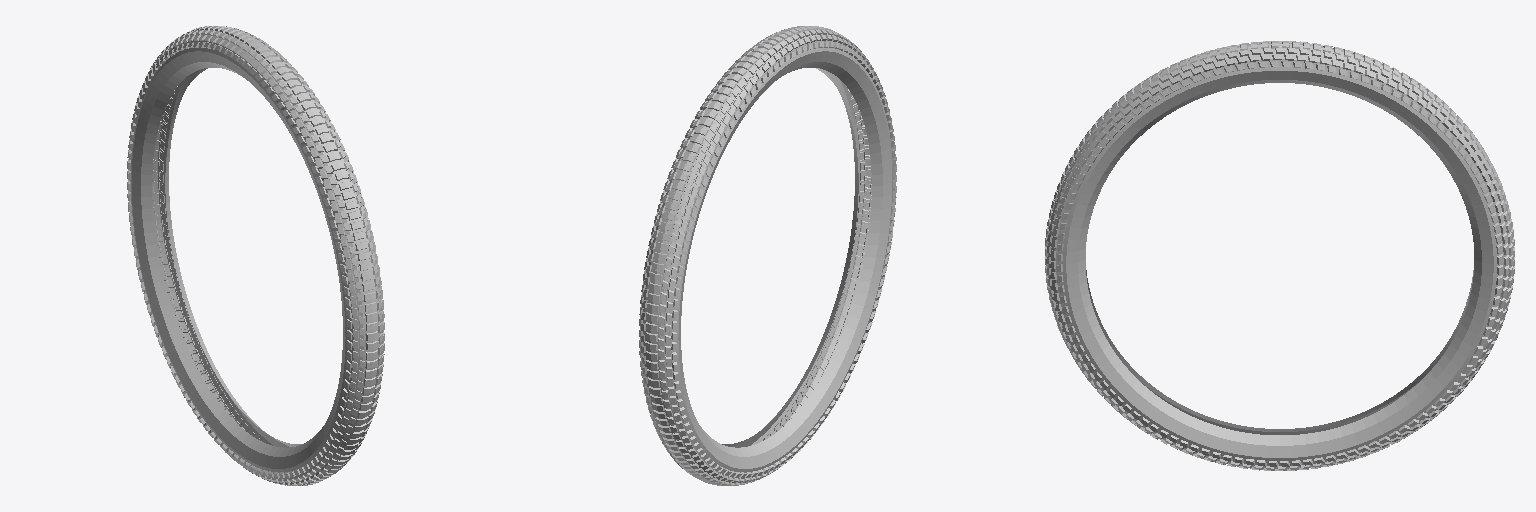
The model's file is MTB_Tire-sharedassets2MTB.assets-17009.obj.
3 views of the same model, side by side, from view 1: azimuth 30°, elevation 25°; view 2: azimuth 150°, elevation 25°; view 3: azimuth 270°, elevation 25° (orthographic).
Parts seen in each view (by area): view 1: MTB_Tire_0; view 2: MTB_Tire_0; view 3: MTB_Tire_0.
Boxes of the visible parts, box(x1,y1,x2,y2) form: MTB_Tire_0: box(127, 26, 384, 485); MTB_Tire_0: box(639, 26, 896, 485); MTB_Tire_0: box(1045, 41, 1514, 470).
Bounding box in the file's own units: 0.0573 × 0.6337 × 0.6337.